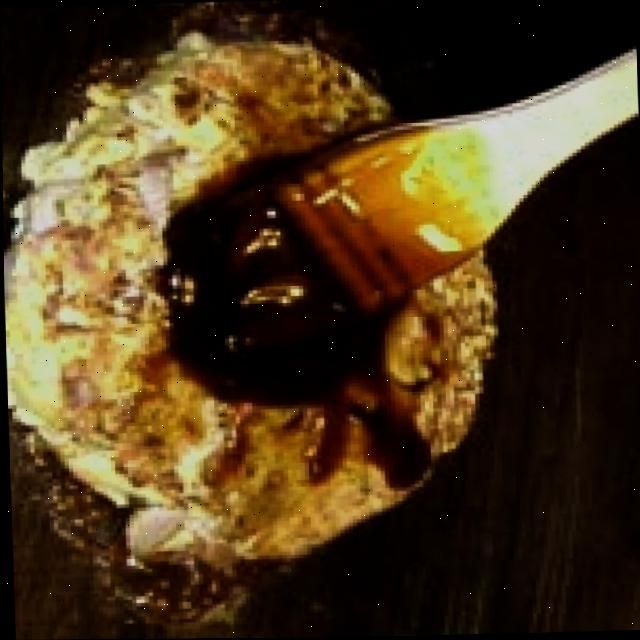蛋糕甜品: (2, 188, 193, 640)
